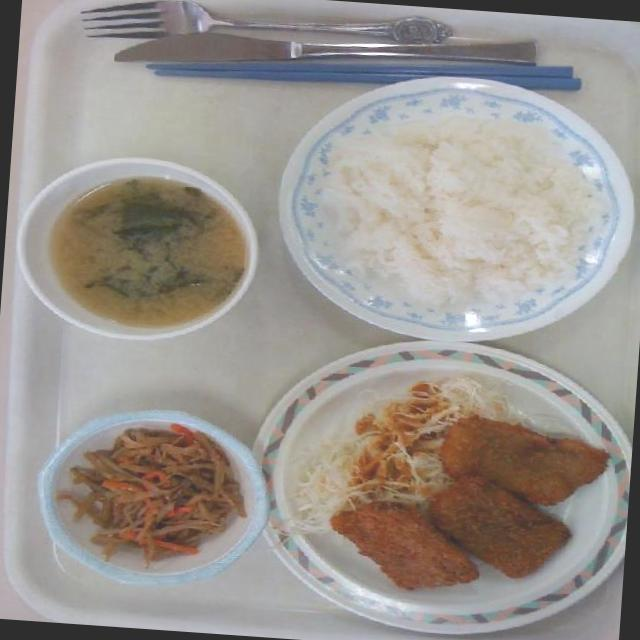Rice: (312, 89, 624, 336)
